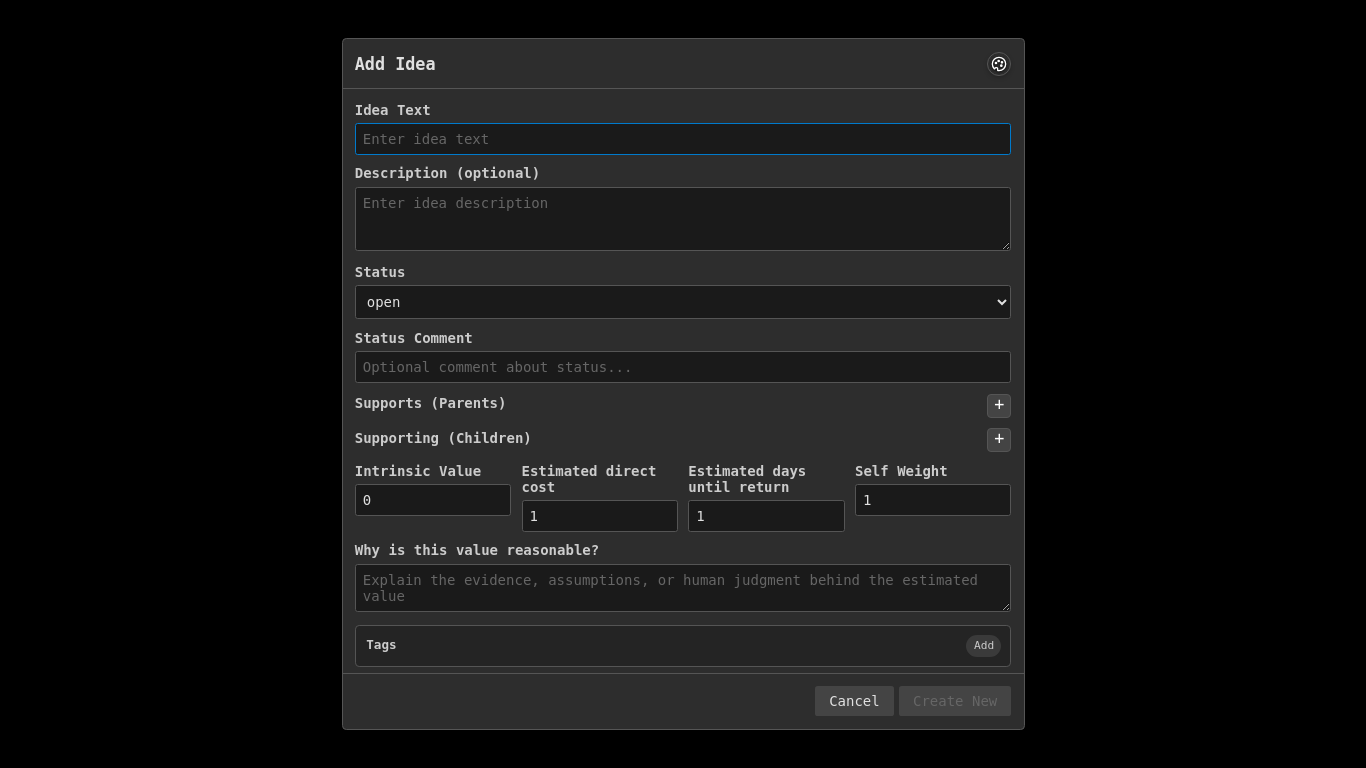
Scenario: IdeaCreationModal › adds supported idea (parent)
Step 1. Click the button titled "Add Parent" in the row of "Supports (Parents)" → (999, 406), box x1=987 y1=394 x2=1011 y2=418
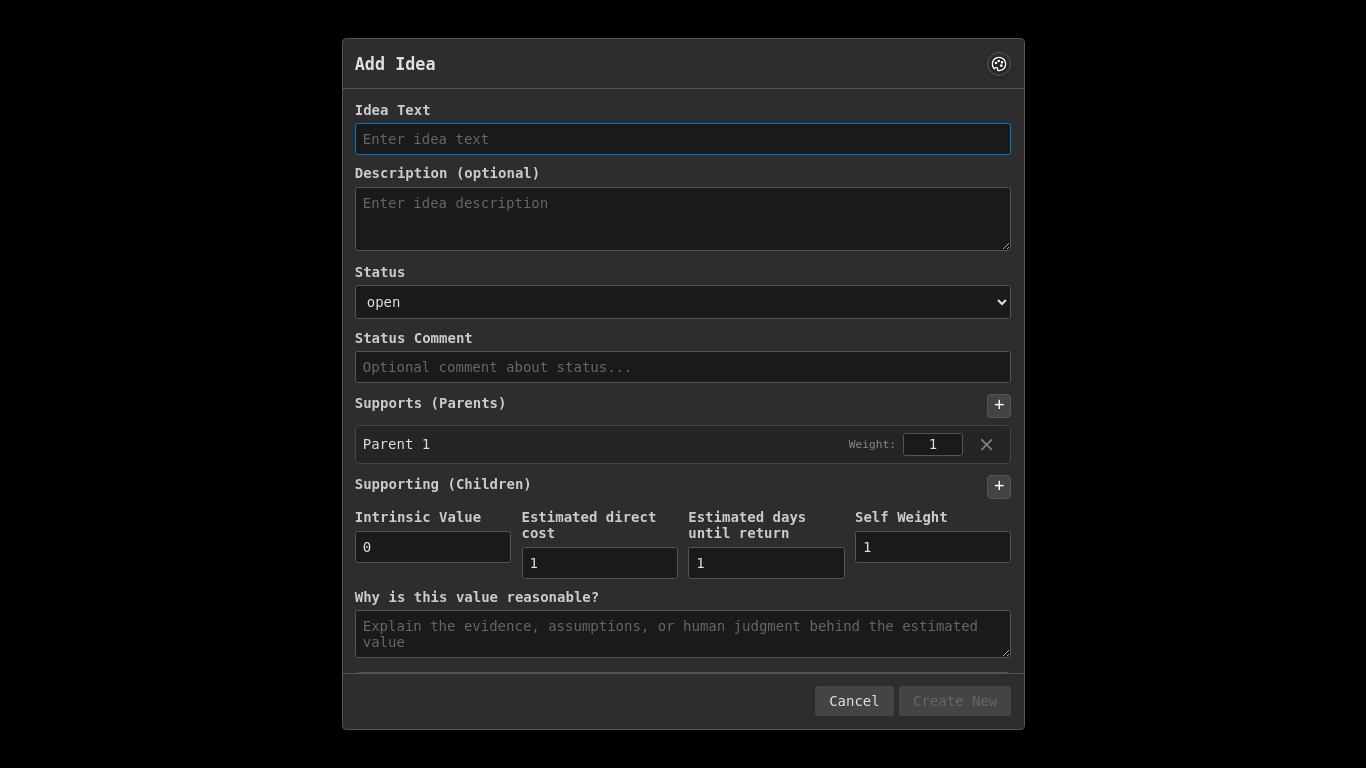
Now the text "Parent 1" is shown, box x1=363 y1=436 x2=430 y2=452
Now the number of elements with class "supported-idea-row" is 1, box x1=355 y1=425 x2=1011 y2=464
Verify removal
Step 2. Click the button with class "btn-remove" → (987, 444), box x1=970 y1=435 x2=1003 y2=454
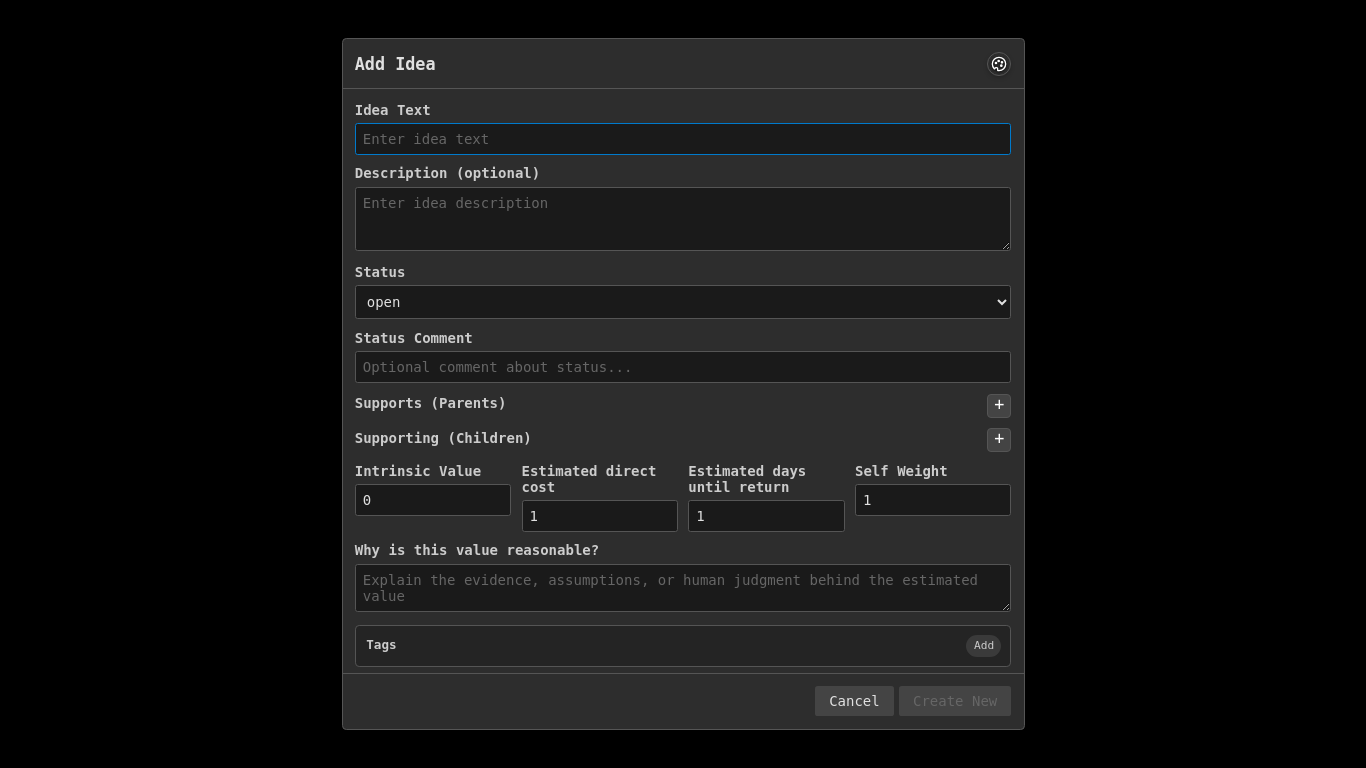
Now no elements with class "supported-idea-row" are shown
